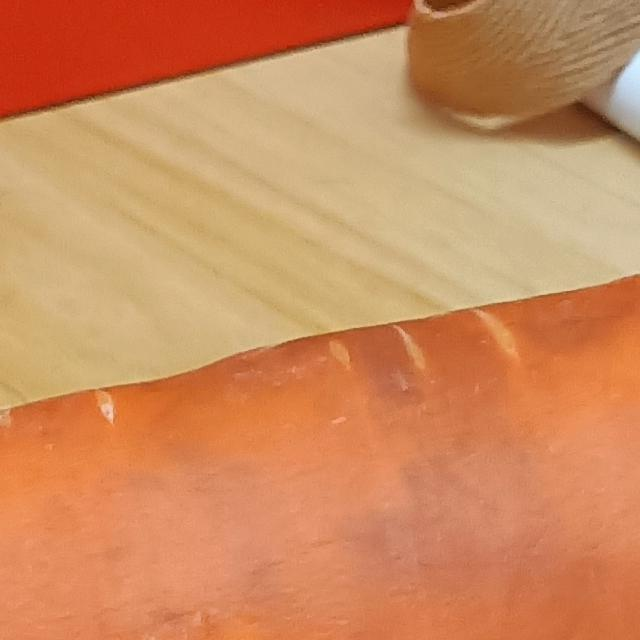carrot: (1, 131, 640, 640)
